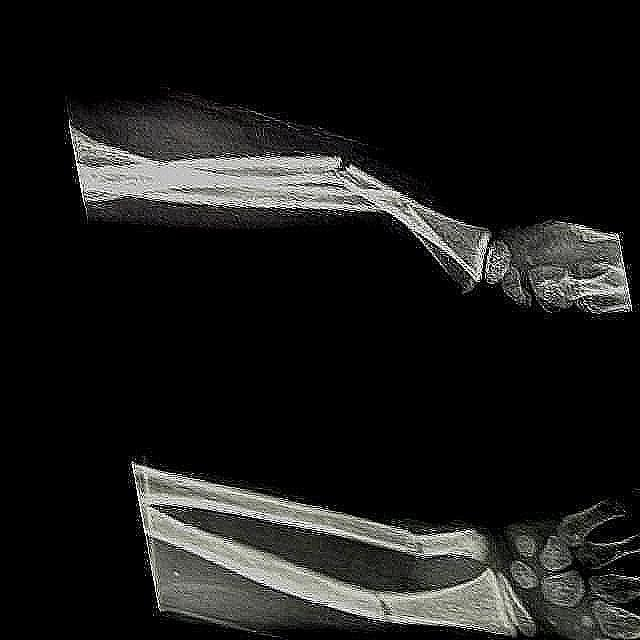bone: (343, 191, 415, 227), (302, 144, 368, 183), (355, 587, 409, 627), (386, 526, 441, 563)
